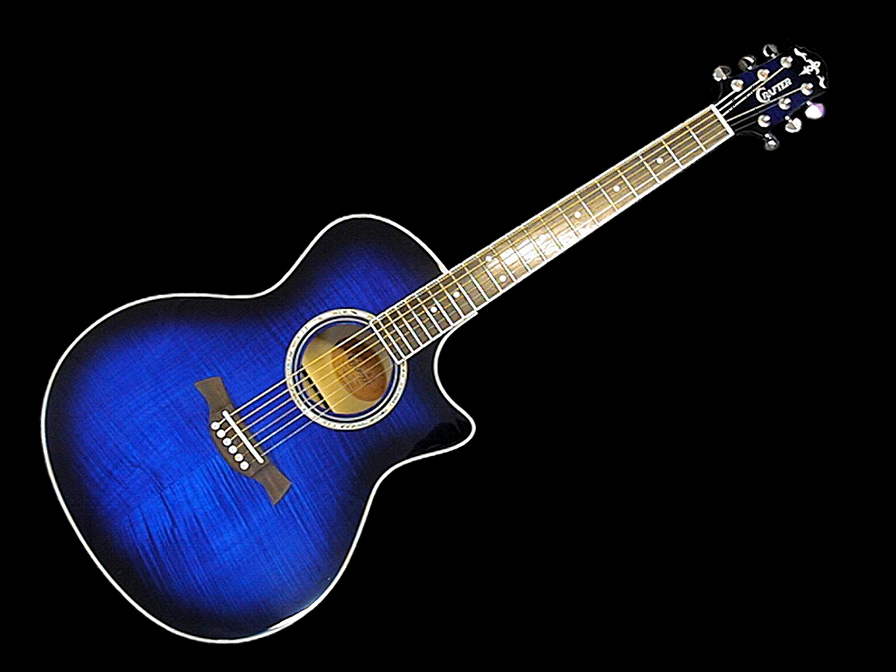acoustic guitar: (39, 43, 831, 648)
